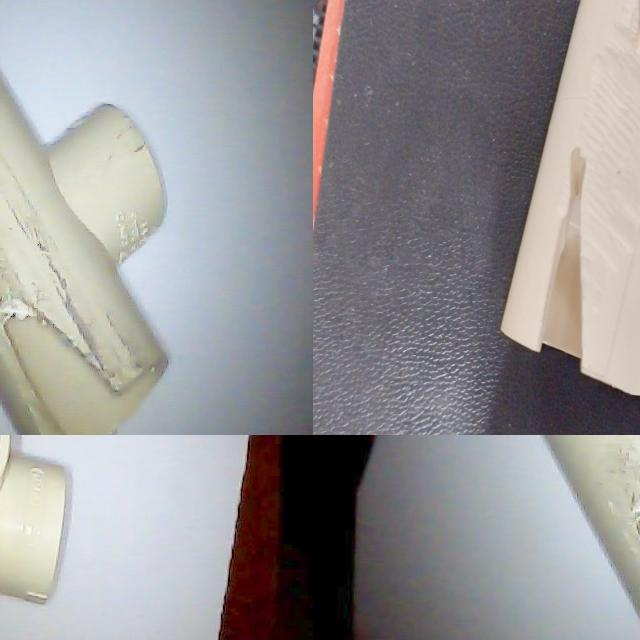Defective: (0, 301, 126, 435), (464, 347, 586, 411), (424, 20, 464, 177), (313, 224, 355, 280)
T Joint: (313, 6, 612, 435), (0, 68, 171, 435)
